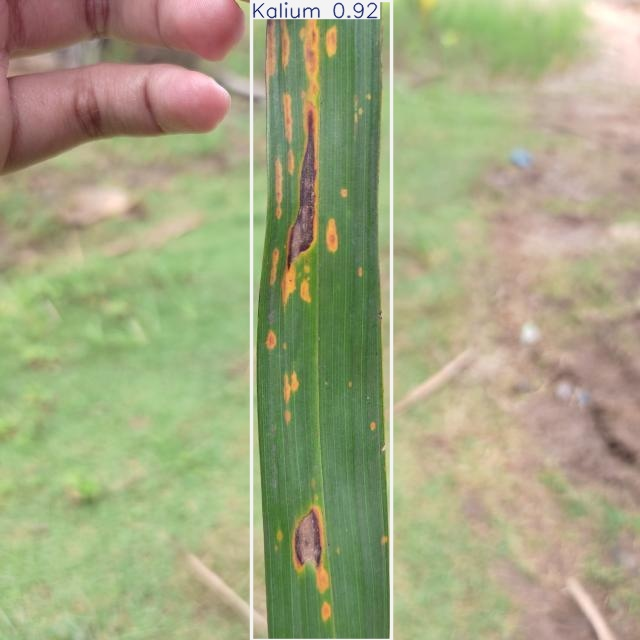Kalium: (252, 0, 392, 640)
